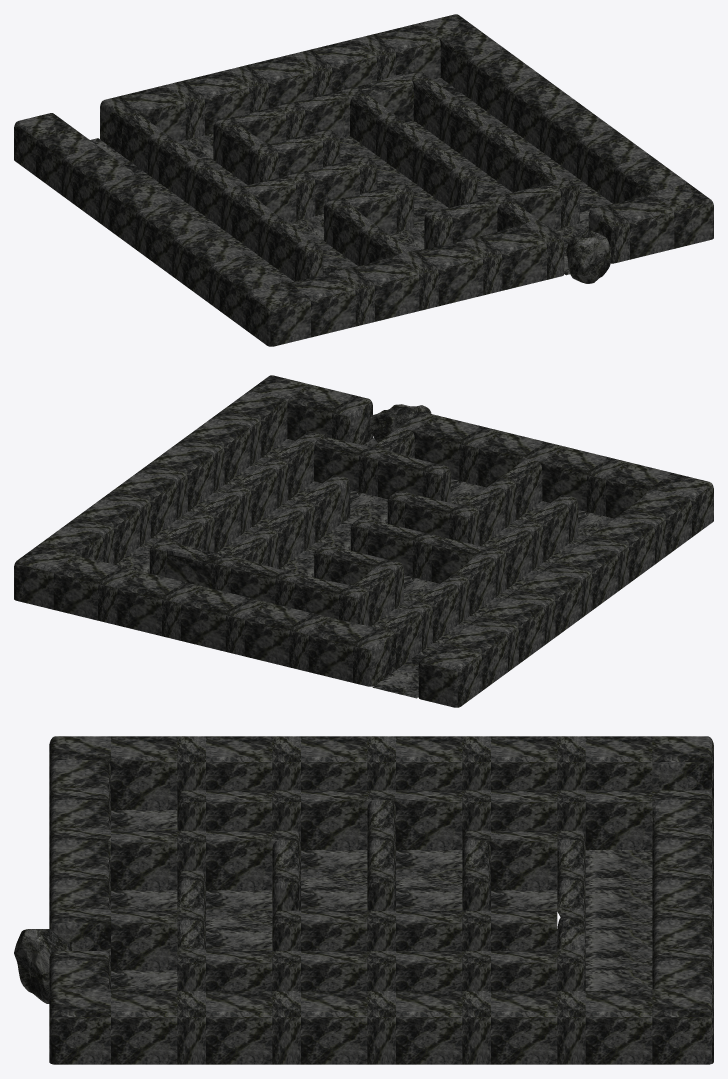
File: parede_chao.obj
3 renders of one model, top to bottom at view 1: azimuth 30°, elevation 25°; view 2: azimuth 150°, elevation 25°; view 3: azimuth 270°, elevation 25°, orthographic. The views are drawn at different scales.
Parts seen in each view (by area): view 1: Plane.005_Plane.006, Plane.001_Plane.002, Plane.002_Plane.003, Plane.006_Plane.007, Plane.003_Plane.004, Plane_Plane.001, Plane.017_Plane.019, Plane.013_Plane.014, Plane.014_Plane.015, Plane.004_Plane.005, Plane.009_Plane.010, Plane.007_Plane.008 (+6 smaller); view 2: Plane.005_Plane.006, Plane.002_Plane.003, Plane.001_Plane.002, Plane.006_Plane.007, Plane_Plane.001, Plane.003_Plane.004, Plane.017_Plane.019, Plane.014_Plane.015, Plane.009_Plane.010, Plane.013_Plane.014, Plane.004_Plane.005, Plane.011_Plane.012 (+6 smaller); view 3: Plane.001_Plane.002, Plane.005_Plane.006, Plane_Plane.001, Plane.003_Plane.004, Plane.017_Plane.019, Plane.002_Plane.003, Plane.013_Plane.014, Plane.006_Plane.007, Plane.011_Plane.012, Plane.015_Plane.016, Plane.010_Plane.011, Plane.014_Plane.015 (+6 smaller).
Boxes of the visible parts, x1,y1,x2,y2 form: Plane.005_Plane.006: [14, 113, 310, 346]; Plane.001_Plane.002: [419, 14, 713, 248]; Plane.002_Plane.003: [100, 23, 440, 154]; Plane.006_Plane.007: [289, 220, 564, 337]; Plane.003_Plane.004: [122, 113, 323, 281]; Plane_Plane.001: [90, 78, 612, 282]; Plane.017_Plane.019: [405, 71, 579, 227]; Plane.013_Plane.014: [350, 93, 477, 207]; Plane.014_Plane.015: [213, 73, 413, 166]; Plane.004_Plane.005: [243, 156, 377, 222]; Plane.009_Plane.010: [424, 183, 560, 248]; Plane.007_Plane.008: [588, 194, 674, 263]; Plane.005_Plane.006: [418, 473, 713, 707]; Plane.002_Plane.003: [53, 555, 395, 686]; Plane.001_Plane.002: [14, 375, 308, 609]; Plane.006_Plane.007: [398, 411, 671, 518]; Plane_Plane.001: [115, 437, 613, 698]; Plane.003_Plane.004: [380, 494, 578, 669]; Plane.017_Plane.019: [149, 430, 325, 577]; Plane.014_Plane.015: [167, 544, 369, 625]; Plane.009_Plane.010: [314, 436, 450, 502]; Plane.013_Plane.014: [225, 475, 350, 568]; Plane.004_Plane.005: [350, 517, 484, 583]; Plane.011_Plane.012: [449, 458, 542, 545]; Plane.001_Plane.002: [49, 988, 713, 1064]; Plane.005_Plane.006: [49, 736, 713, 809]; Plane_Plane.001: [111, 810, 652, 990]; Plane.003_Plane.004: [177, 790, 652, 849]; Plane.017_Plane.019: [177, 948, 585, 990]; Plane.002_Plane.003: [652, 790, 713, 996]; Plane.013_Plane.014: [272, 910, 557, 950]; Plane.006_Plane.007: [49, 760, 110, 959]; Plane.011_Plane.012: [111, 830, 300, 890]; Plane.015_Plane.016: [462, 830, 557, 890]; Plane.010_Plane.011: [111, 910, 177, 970]; Plane.014_Plane.015: [557, 830, 585, 948].
Size of the model in its own units: 43.71 by 4.61 by 46.03.
5 materials, 5 textured.
